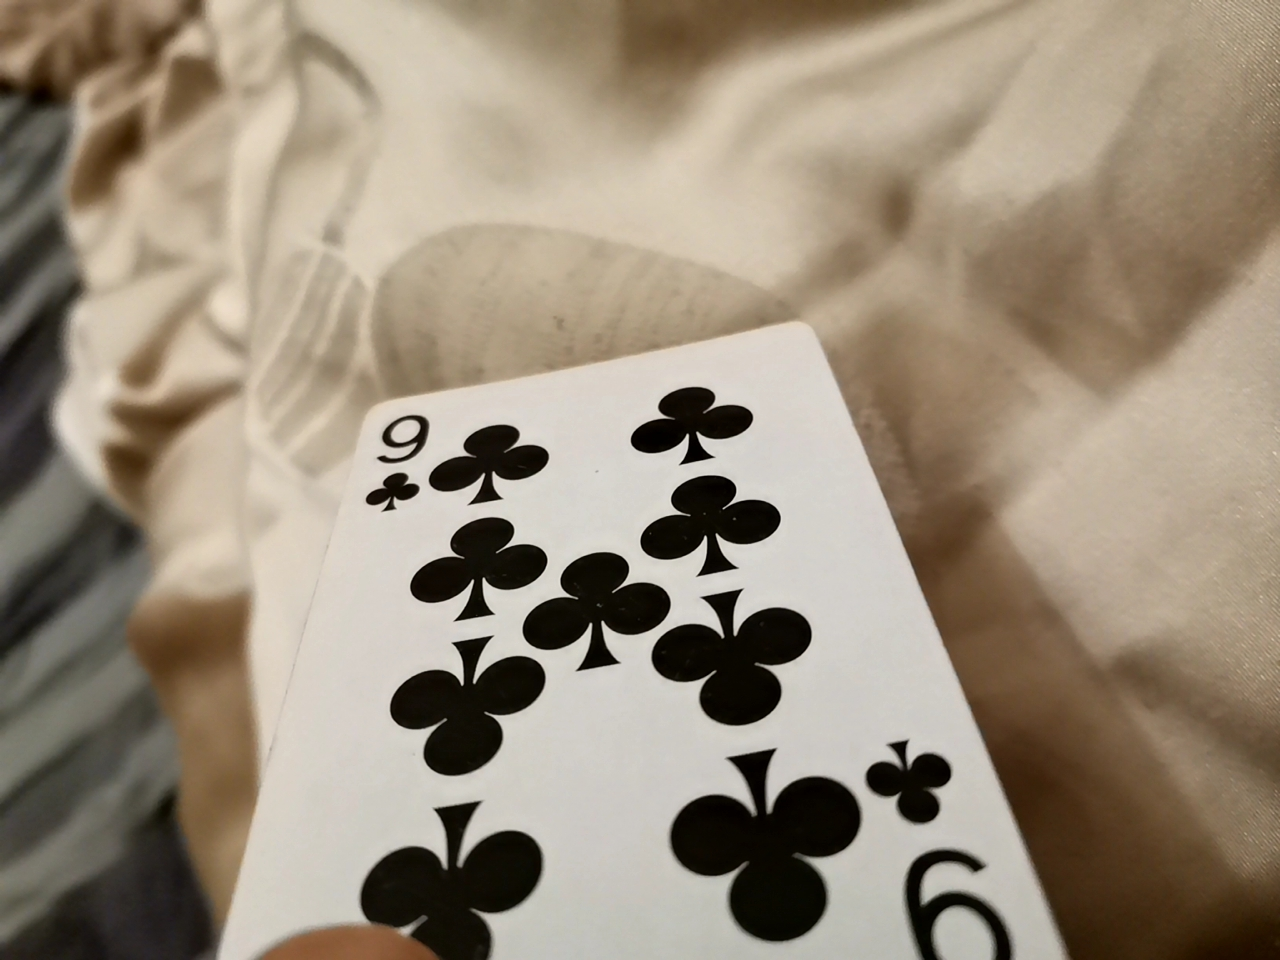mh 9: (191, 309, 1053, 956)
